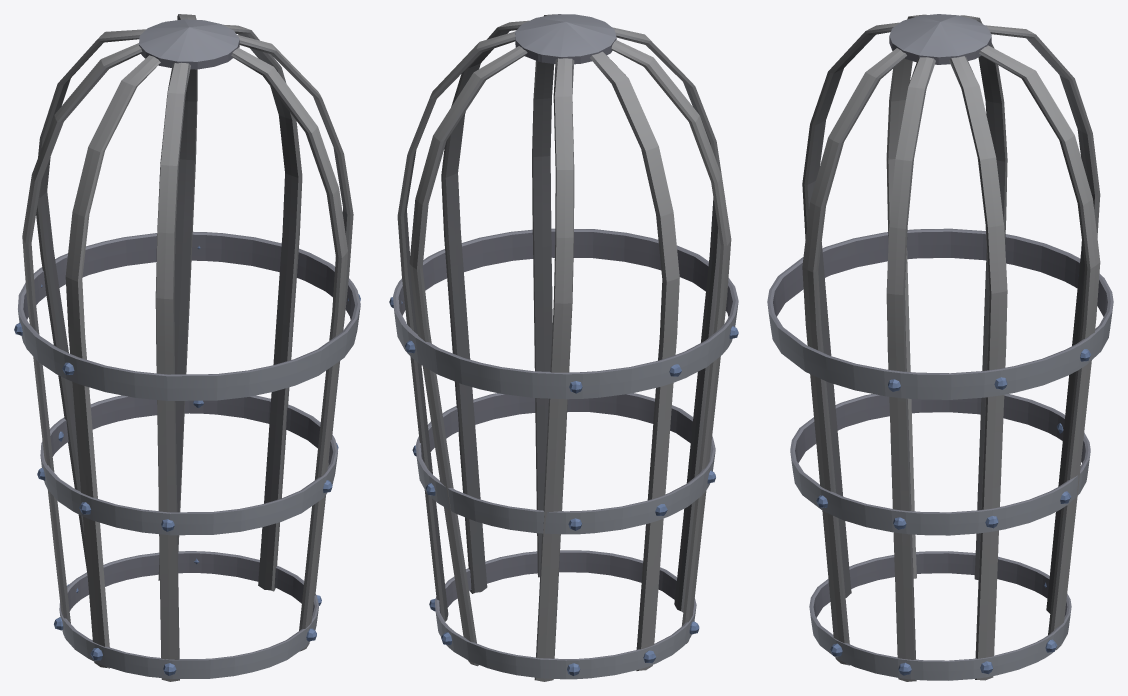
Rendered from cage.fbx.
The picture shows the model from 3 angles, left to right: view 1: azimuth 30°, elevation 25°; view 2: azimuth 150°, elevation 25°; view 3: azimuth 270°, elevation 25°; orthographic projection.
Visible parts, largest first — view 1: cage; view 2: cage; view 3: cage.
Boxes of the visible parts, x1=… form: cage: x1=14, y1=14, x2=360, y2=681; cage: x1=389, y1=14, x2=738, y2=681; cage: x1=767, y1=14, x2=1113, y2=681.
Size of the model in its own units: 257 by 500 by 257.
1 material, 1 textured.
